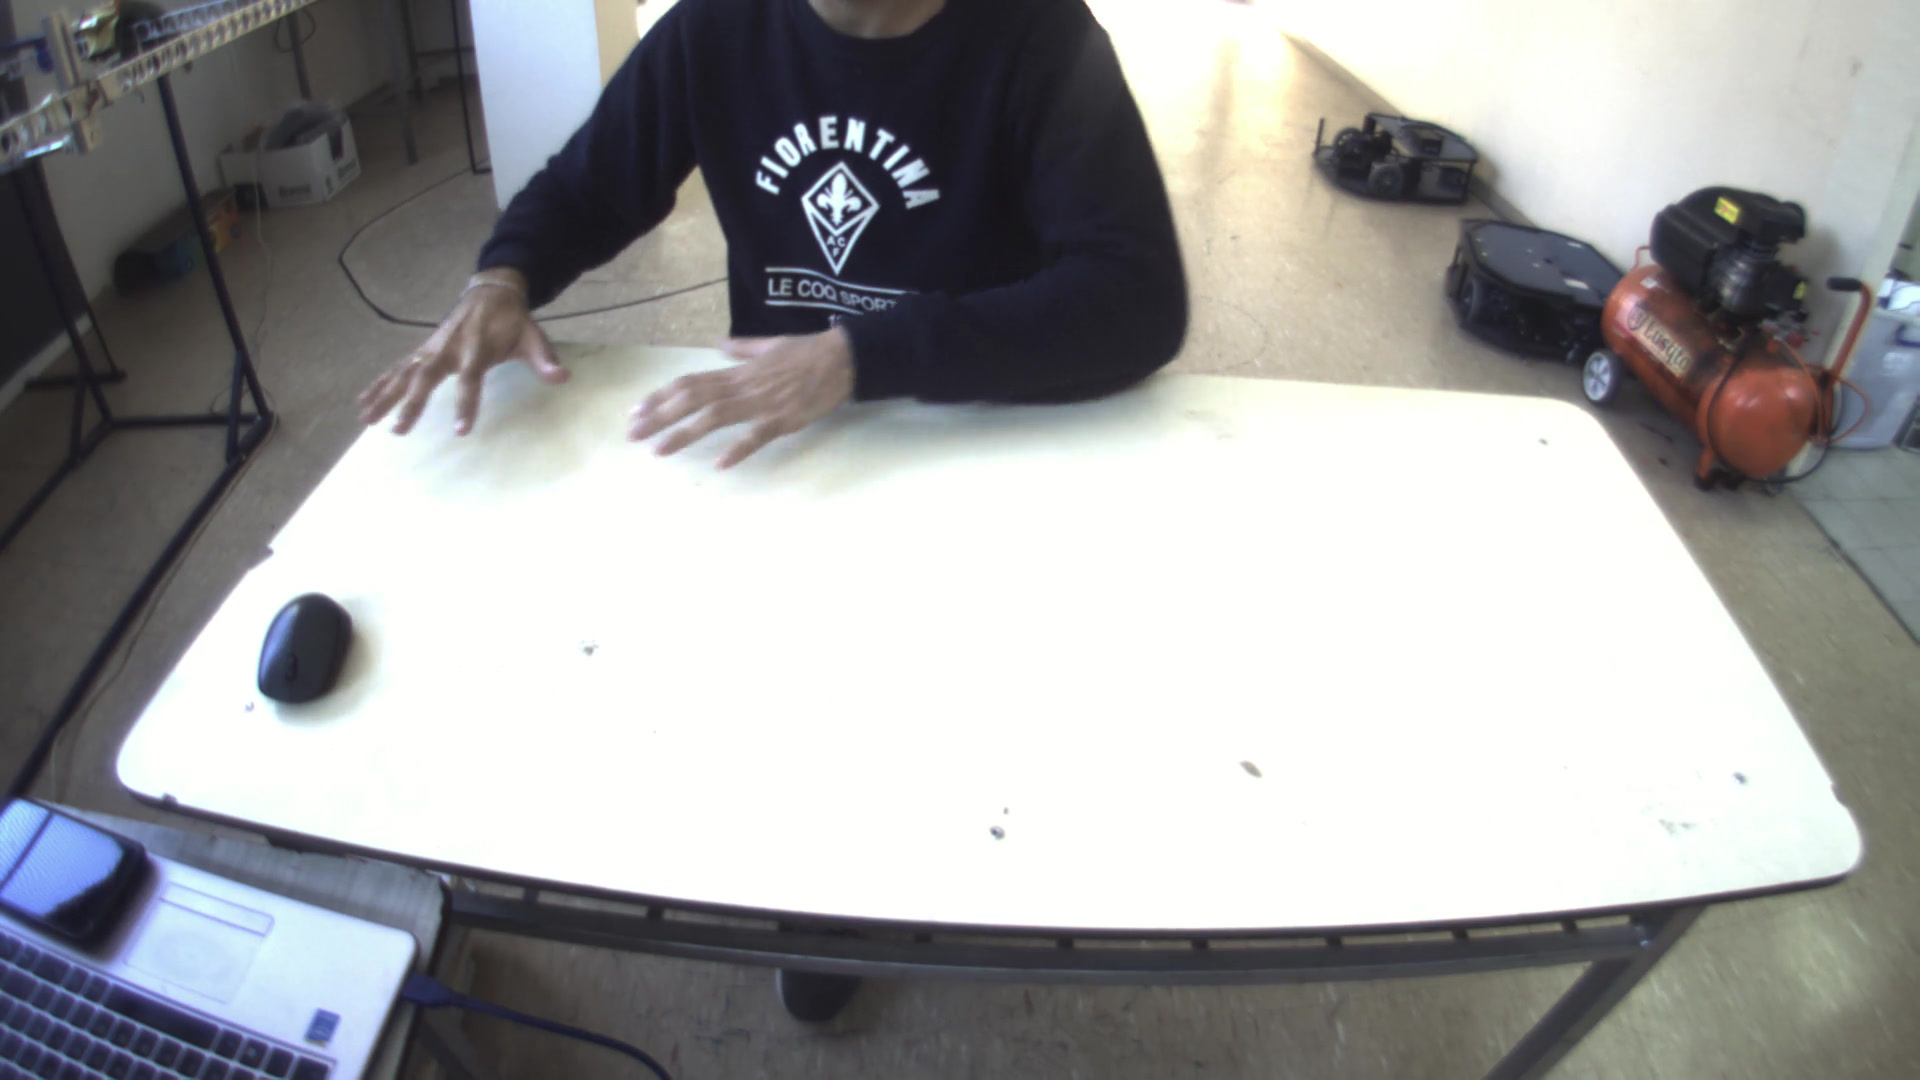hand: (339, 261, 563, 435), (615, 313, 853, 469)
